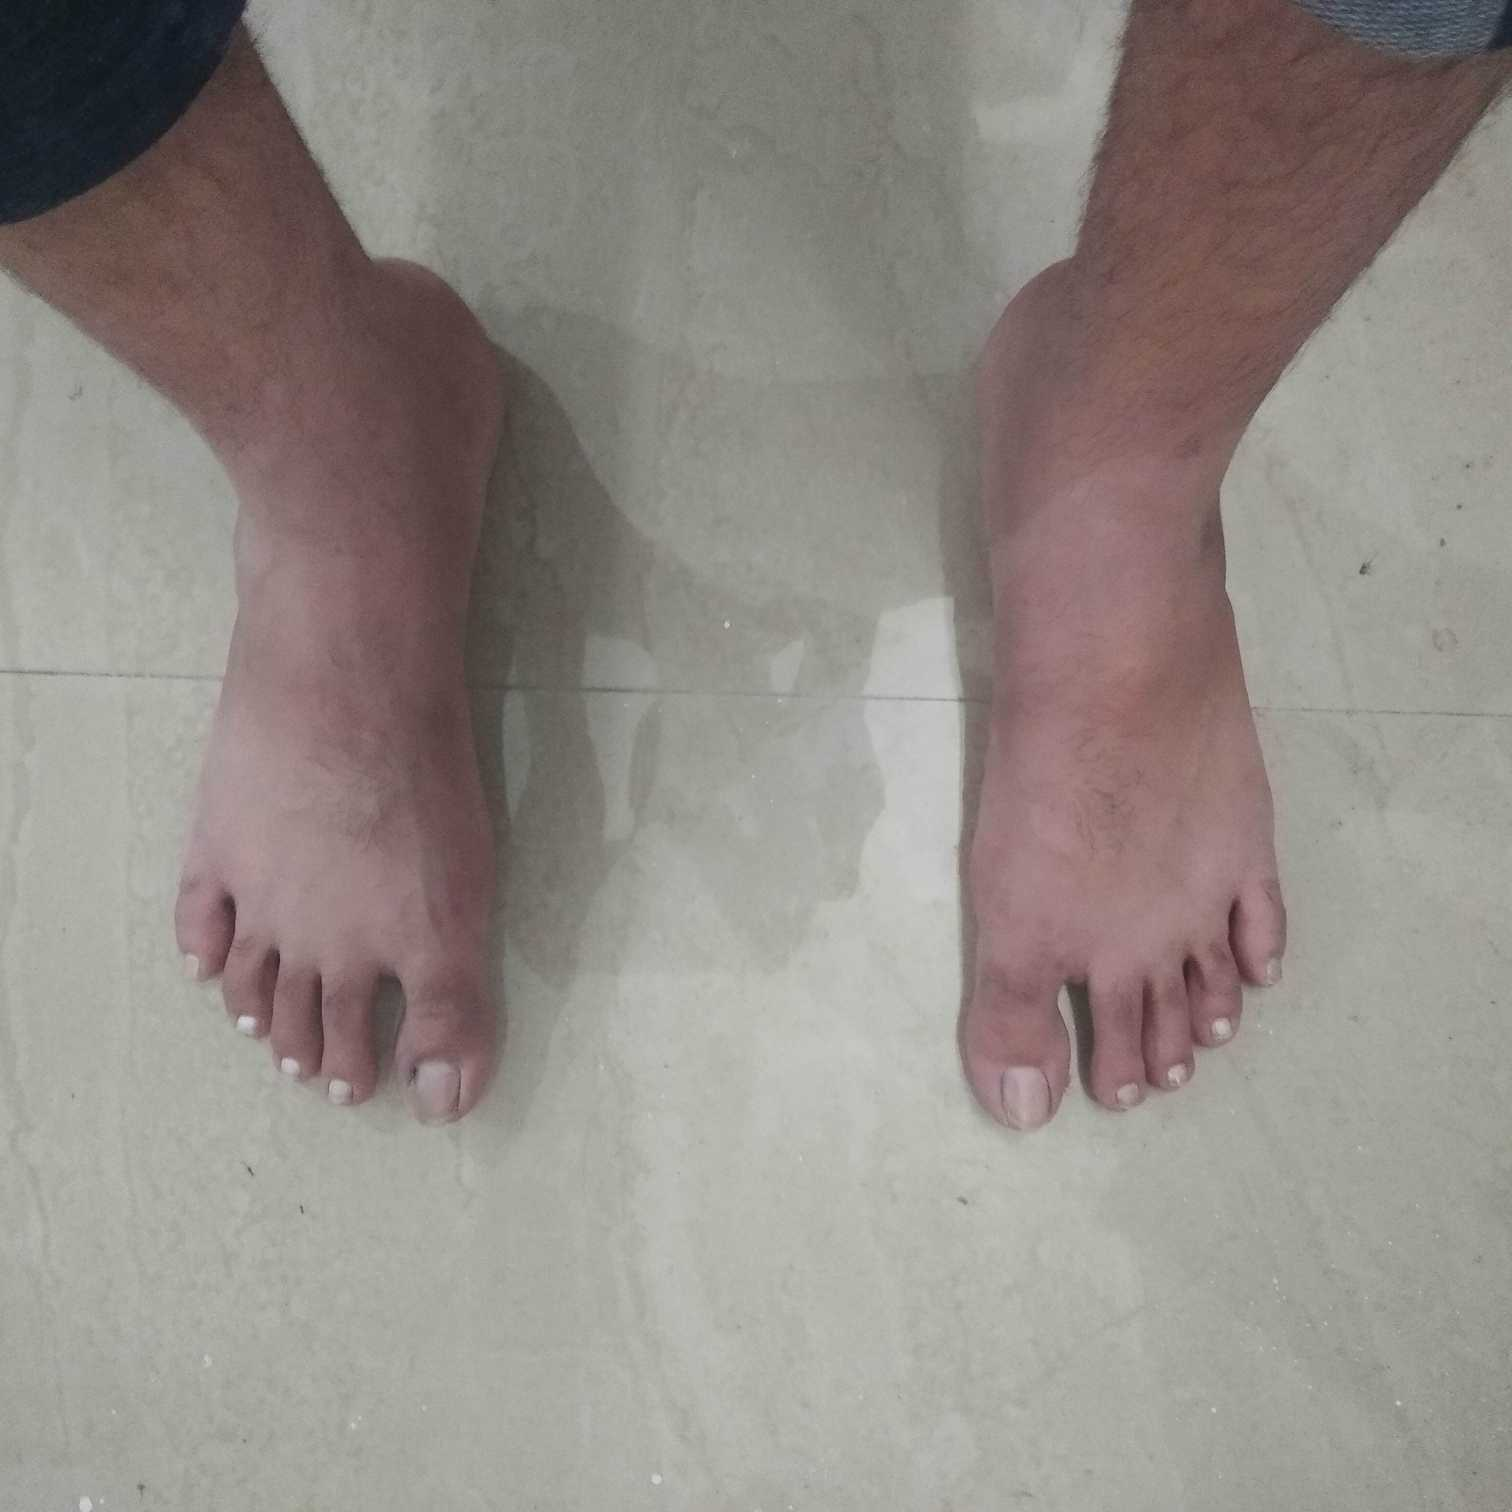foot: (948, 504, 1299, 1144), (166, 525, 507, 1133)
